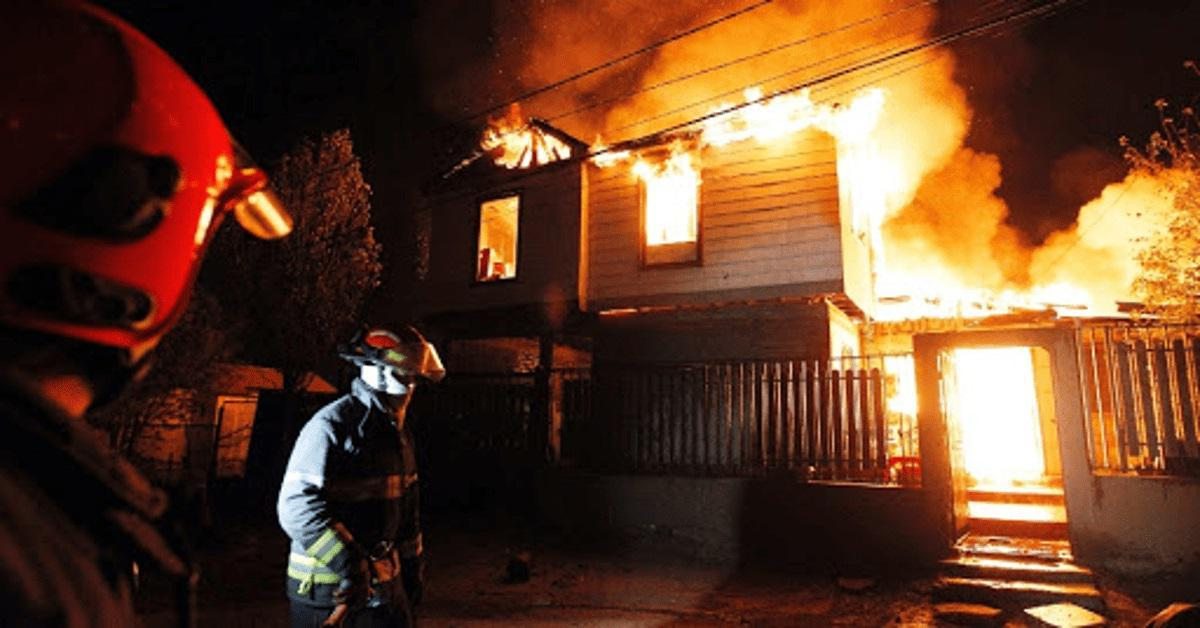Fire: (703, 69, 1191, 321), (595, 126, 693, 245), (481, 106, 578, 170)
